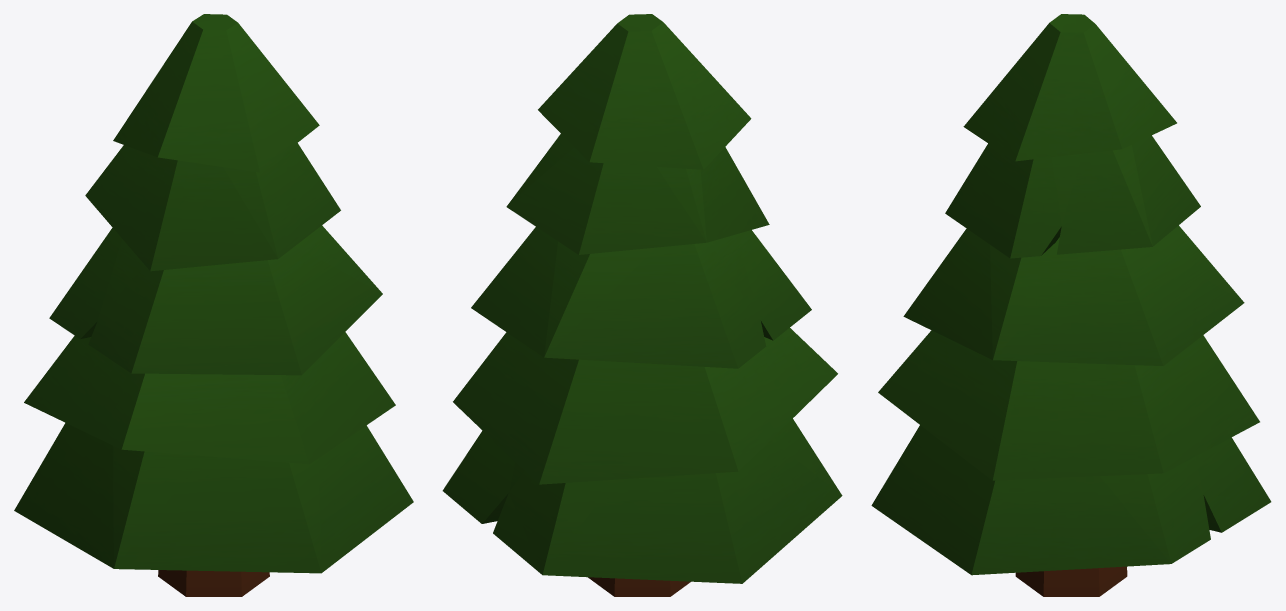
File: pine.glb
3 renders of one model, left to right at view 1: azimuth 30°, elevation 25°; view 2: azimuth 150°, elevation 25°; view 3: azimuth 270°, elevation 25°, orthographic.
Parts seen in each view (by area): view 1: Cylinder.025, Cylinder.026; view 2: Cylinder.025, Cylinder.026; view 3: Cylinder.025, Cylinder.026.
Boxes of the visible parts, x1,y1,x2,y2 form: Cylinder.025: (14,14,413,573); Cylinder.026: (158,570,269,596); Cylinder.025: (442,14,842,583); Cylinder.026: (588,577,690,596); Cylinder.025: (871,14,1271,575); Cylinder.026: (1015,566,1127,596).
Bounding box in the file's own units: 7.24 × 12.79 × 8.36.
Materials: 2 (2 with a texture image).
